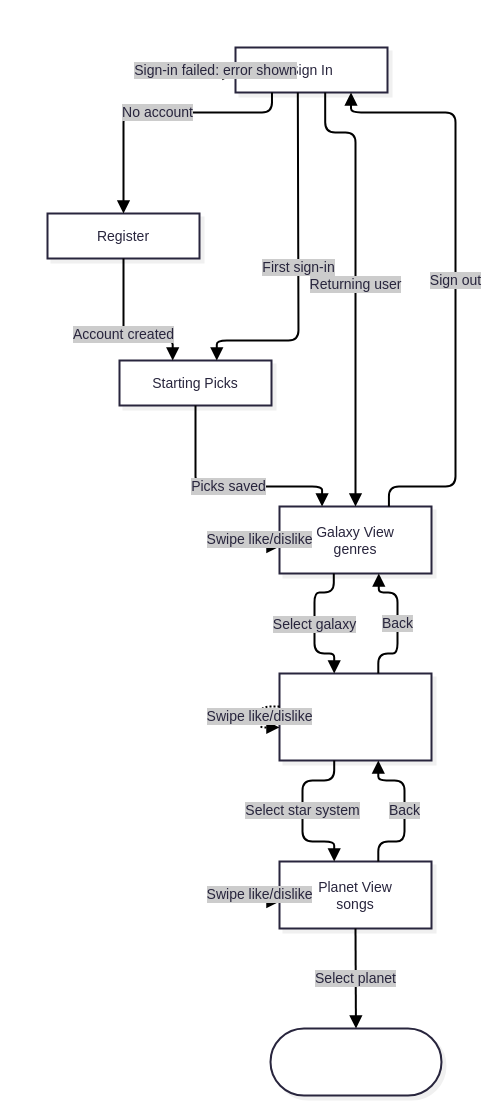
This 498x1117 diagram has some shape labels left out. The shapes that lost their labels are listed below. From the top down, each one's centre as x and y in pixels, then its label:
At [357,718]: "Star System View artists".
At [357,1063]: "External listening service".
